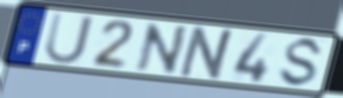2: (91, 19, 135, 69)
4: (230, 31, 273, 85)
N: (176, 25, 239, 82), (134, 22, 191, 76)
S: (276, 36, 327, 89)
U: (42, 11, 96, 66)
